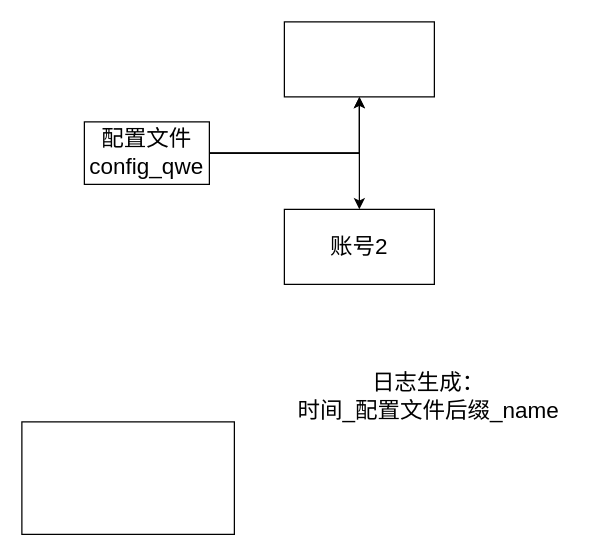
The diagram is 594 pixels wide and 556 high, and some of its shapes have lost their labels. Here are the shapes that lost their labels. From the top down, the centre of each, then its label:
[358,59]: 账号1
[127,477]: 配置文件 all_controller [[每个账号]] name，配置文件
